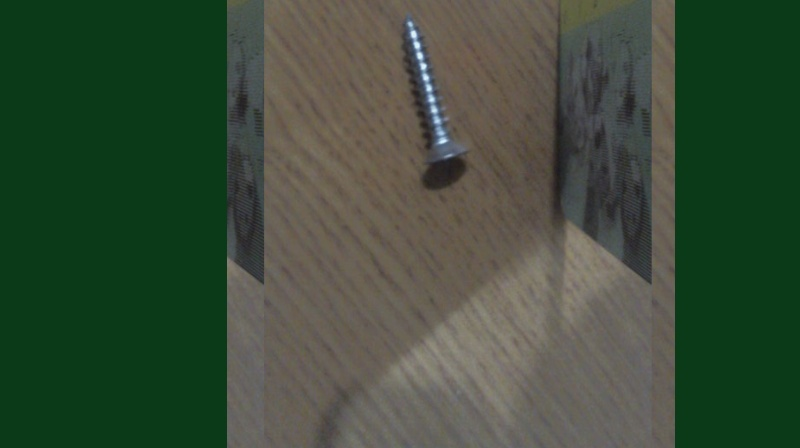S001: (395, 11, 473, 167)
